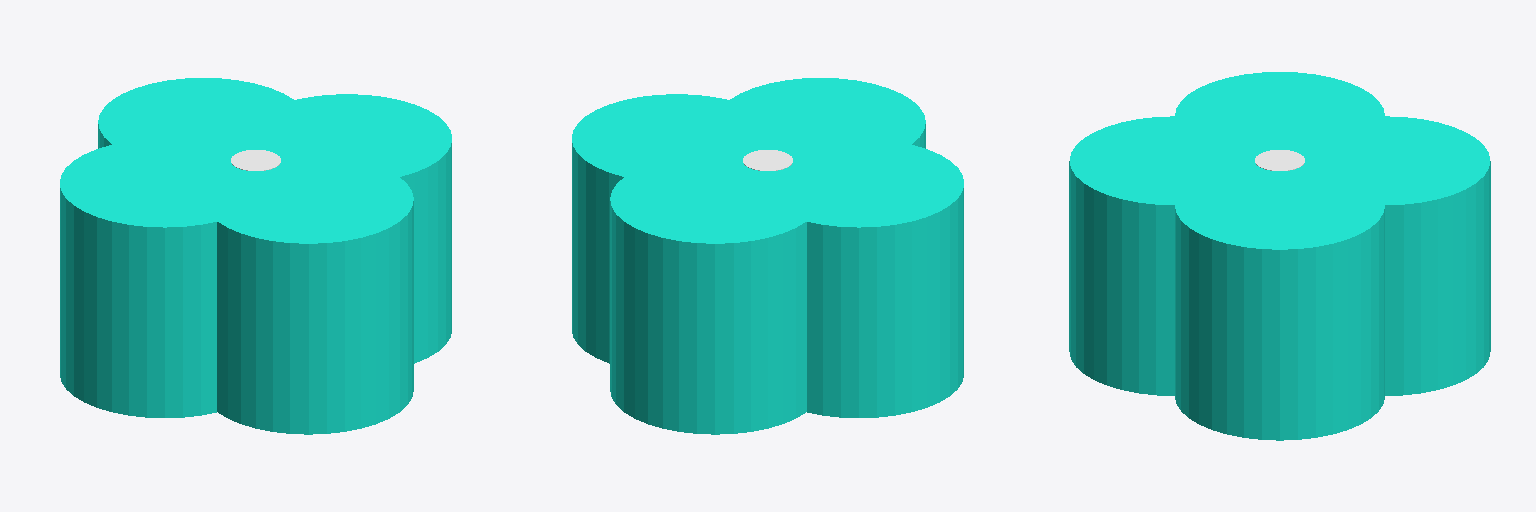
The model's file is x_huaban.obj.
3 renders of one model, left to right at view 1: azimuth 30°, elevation 25°; view 2: azimuth 150°, elevation 25°; view 3: azimuth 270°, elevation 25°, orthographic.
Parts seen in each view (by area): view 1: sigeyaunzhu, yanzhuxin; view 2: sigeyaunzhu, yanzhuxin; view 3: sigeyaunzhu, yanzhuxin.
Boxes of the visible parts, <box> form: sigeyaunzhu: <box>60,78,451,434</box>; yanzhuxin: <box>231,150,280,170</box>; sigeyaunzhu: <box>572,78,963,434</box>; yanzhuxin: <box>743,150,792,170</box>; sigeyaunzhu: <box>1069,72,1490,440</box>; yanzhuxin: <box>1255,150,1304,170</box>.
Size of the model in its own units: 10 by 5.01 by 10.